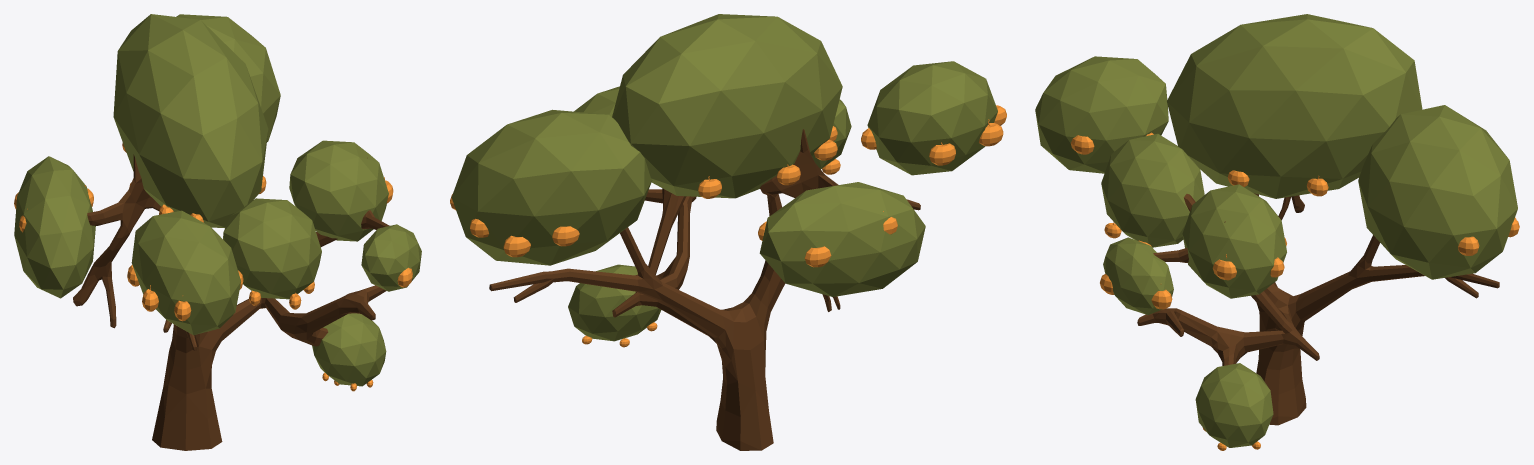
Rendered from tree09.fbx.
3 renders of one model, left to right at view 1: azimuth 30°, elevation 25°; view 2: azimuth 150°, elevation 25°; view 3: azimuth 270°, elevation 25°, orthographic. The views are drawn at different scales.
Parts seen in each view (by area): view 1: Plane.026; view 2: Plane.026; view 3: Plane.026.
Part boxes in pixels (box(x1,y1,x2,y2)): Plane.026: box(14, 14, 421, 450); Plane.026: box(450, 14, 1006, 450); Plane.026: box(1035, 14, 1519, 450).
Size of the model in its own units: 1.36 by 1.52 by 1.67.
